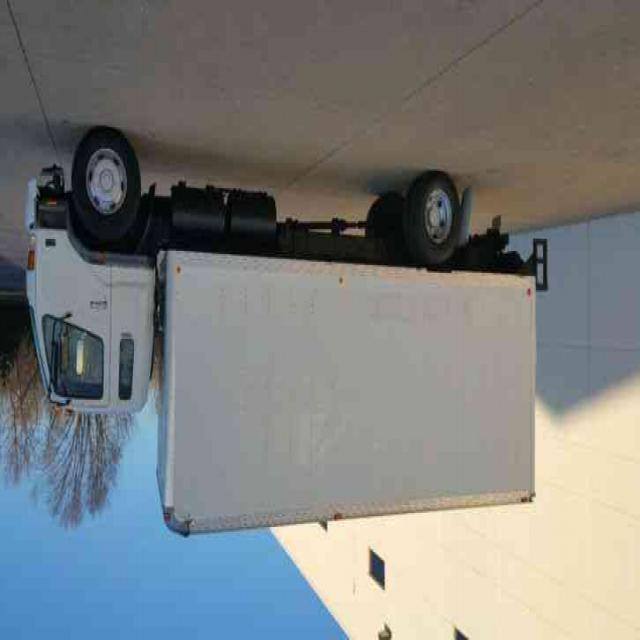truck: (23, 130, 550, 541)
